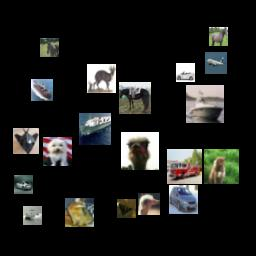airplane: (13, 128, 39, 154), (205, 52, 227, 74), (117, 199, 136, 218)
automobile: (169, 185, 198, 214), (176, 63, 195, 82), (14, 175, 33, 194)
bird: (121, 132, 159, 170), (138, 193, 160, 215)
cat: (204, 149, 239, 184), (65, 198, 94, 227)
deer: (87, 64, 116, 93)
dog: (43, 137, 72, 166)
ship: (186, 85, 224, 123), (79, 113, 111, 145), (31, 79, 53, 101), (23, 206, 42, 225)
truck: (167, 149, 202, 184)
